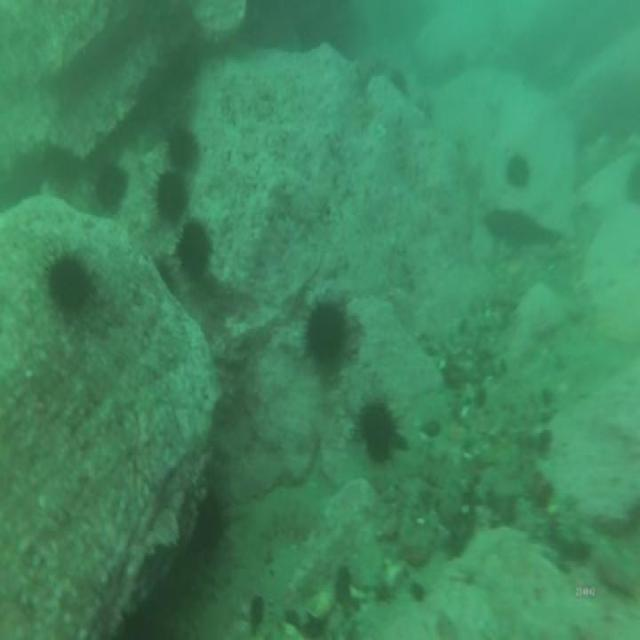echinus: (298, 296, 356, 376), (42, 247, 95, 326), (355, 395, 400, 471), (189, 483, 231, 558), (152, 162, 193, 230), (174, 217, 213, 284), (92, 158, 132, 217), (39, 144, 83, 197), (166, 36, 200, 98), (164, 122, 199, 172), (149, 254, 179, 305), (504, 147, 532, 197), (623, 153, 640, 212), (388, 65, 410, 96)
